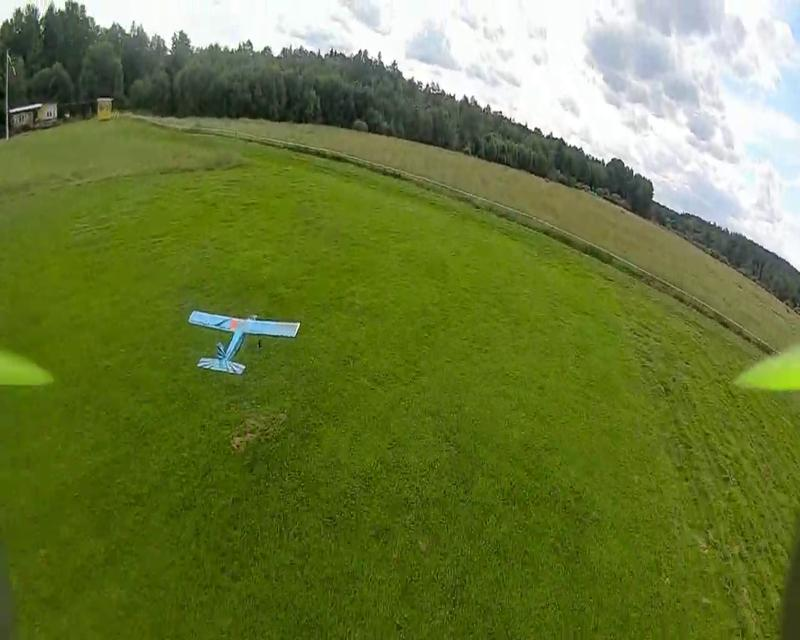UAV: (186, 308, 301, 375)
